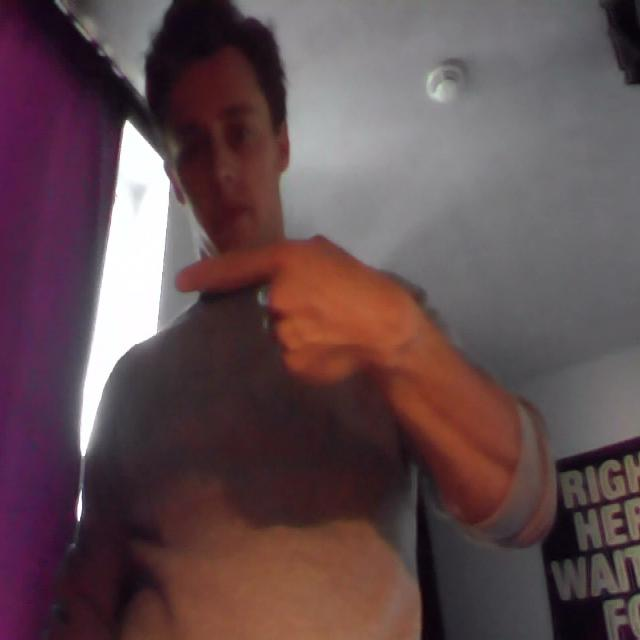left: (164, 222, 408, 398)
